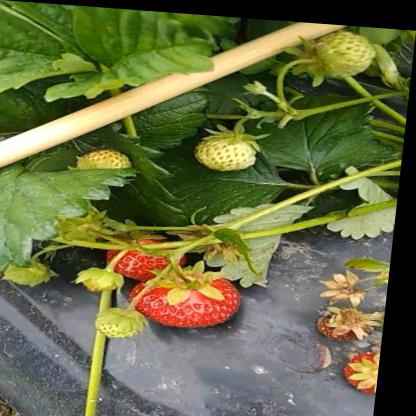ripe: (131, 271, 251, 328), (111, 234, 186, 278), (352, 342, 388, 390)
unripe: (295, 24, 379, 73), (194, 128, 264, 169), (322, 305, 378, 335), (102, 307, 152, 338), (76, 146, 137, 169), (87, 266, 125, 291)
